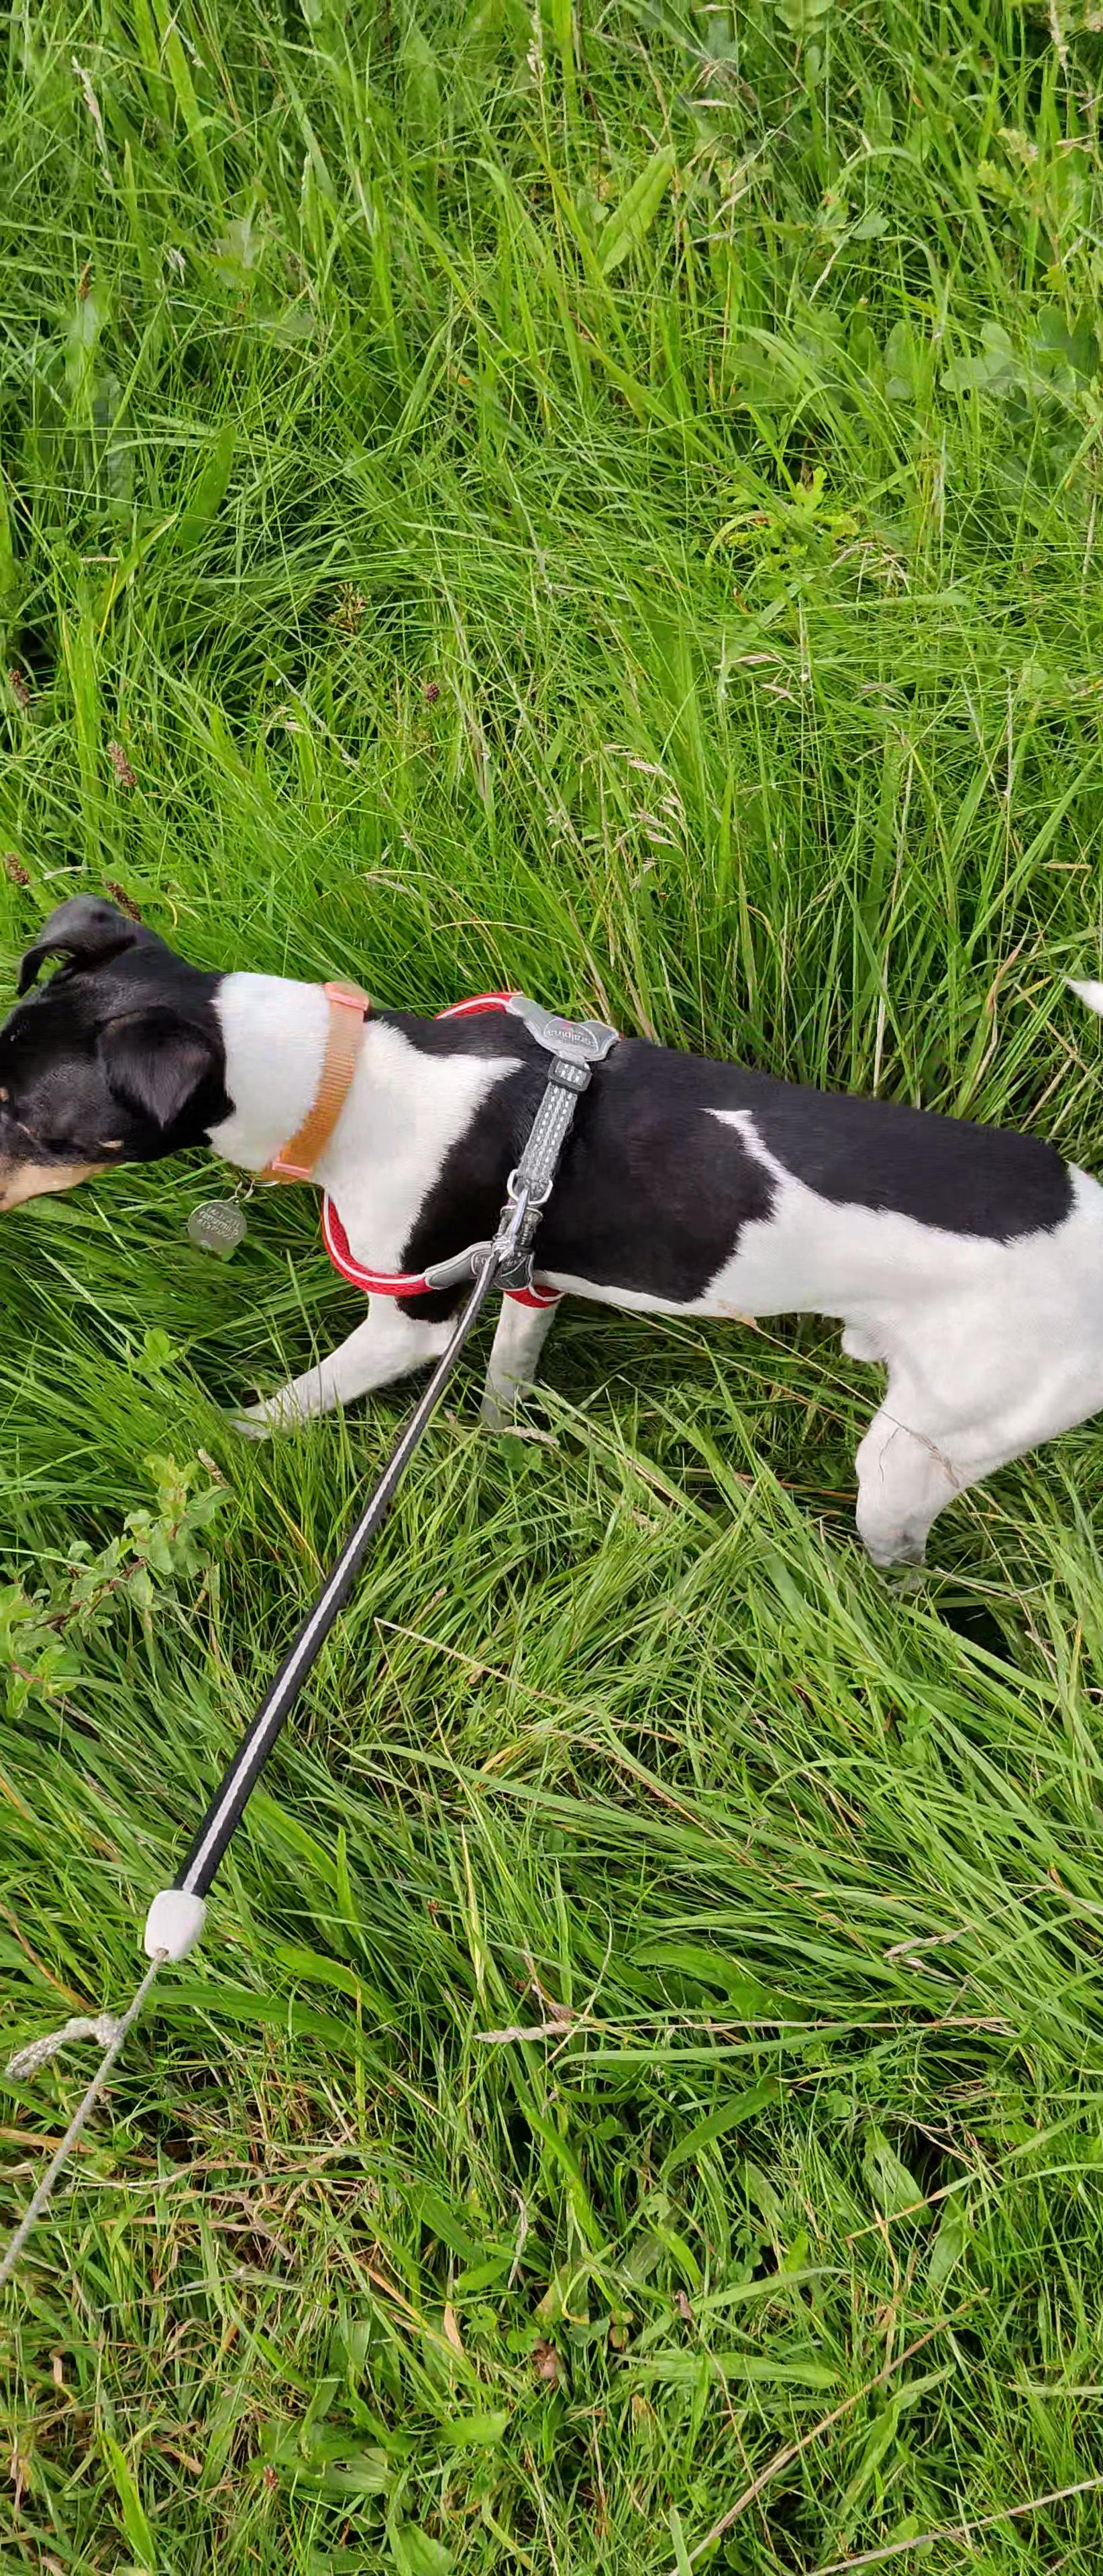Dog: (0, 890, 1103, 1569)
